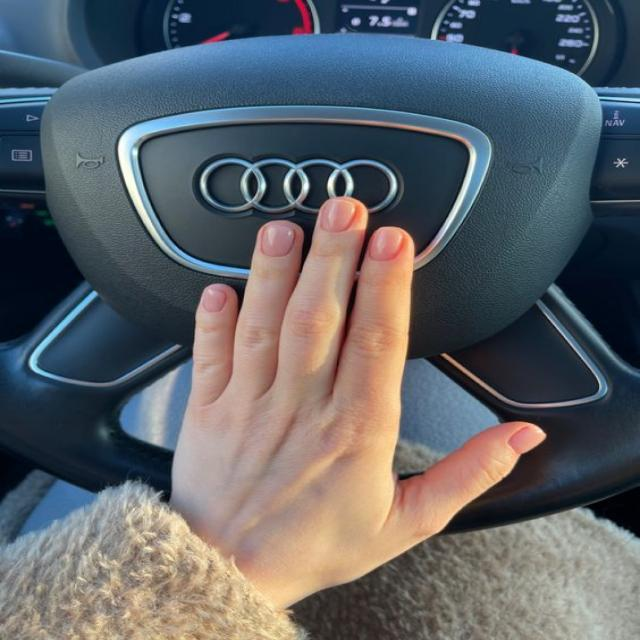Fingernail: (320, 200, 357, 232), (261, 225, 294, 258), (370, 229, 403, 261), (508, 427, 544, 455), (203, 288, 225, 314)
